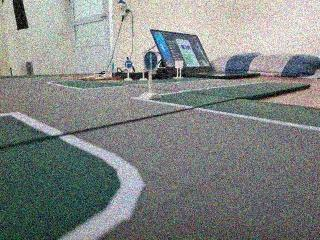straight: (141, 48, 162, 70)
